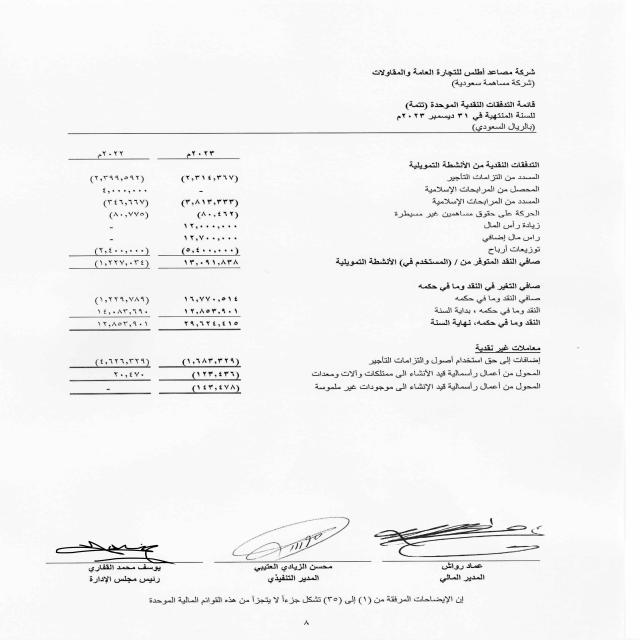financial_sheets: (393, 98, 539, 112)
table: (34, 137, 259, 416)
